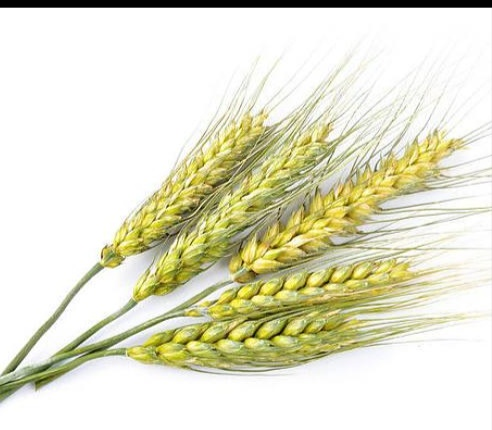wheat: (121, 134, 322, 302), (223, 141, 457, 280), (97, 106, 276, 260), (184, 253, 433, 319), (116, 313, 376, 369)
